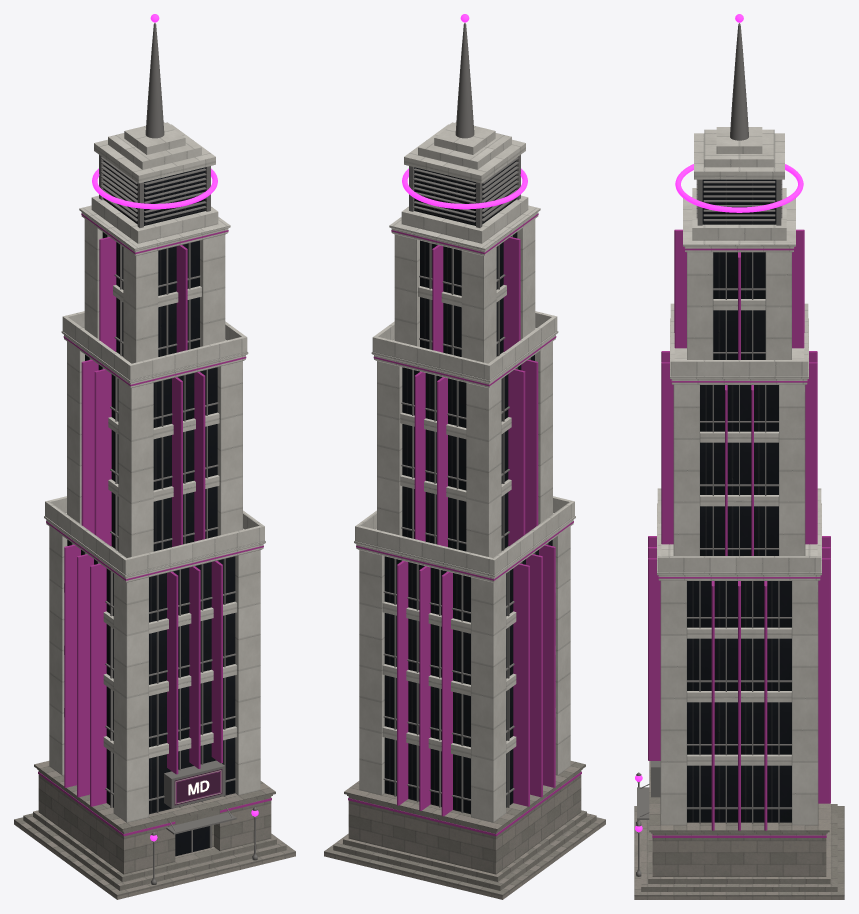
Rendered from s29-metaverse-dao.glb.
3 renders of one model, left to right at view 1: azimuth 30°, elevation 25°; view 2: azimuth 150°, elevation 25°; view 3: azimuth 270°, elevation 25°, orthographic.
Parts seen in each view (by area): view 1: Landmark · Metaverse DAO (Series 29); view 2: Landmark · Metaverse DAO (Series 29); view 3: Landmark · Metaverse DAO (Series 29).
Boxes of the visible parts, left/top/right/bottom form: Landmark · Metaverse DAO (Series 29): left=14, top=14, right=295, bottom=899; Landmark · Metaverse DAO (Series 29): left=324, top=14, right=605, bottom=899; Landmark · Metaverse DAO (Series 29): left=634, top=14, right=844, bottom=899.
Bounding box in the file's own units: 12 × 53 × 12.
7 materials, 4 textured.
